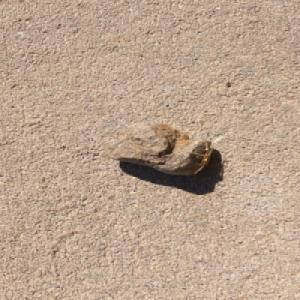Rock: (97, 120, 214, 175)
